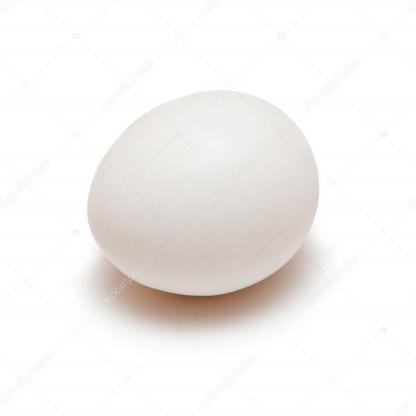egg: (83, 89, 320, 298)
